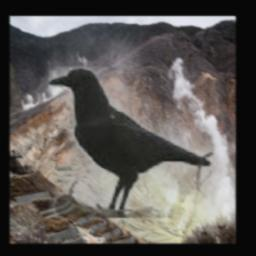Crow: (48, 67, 213, 218)
